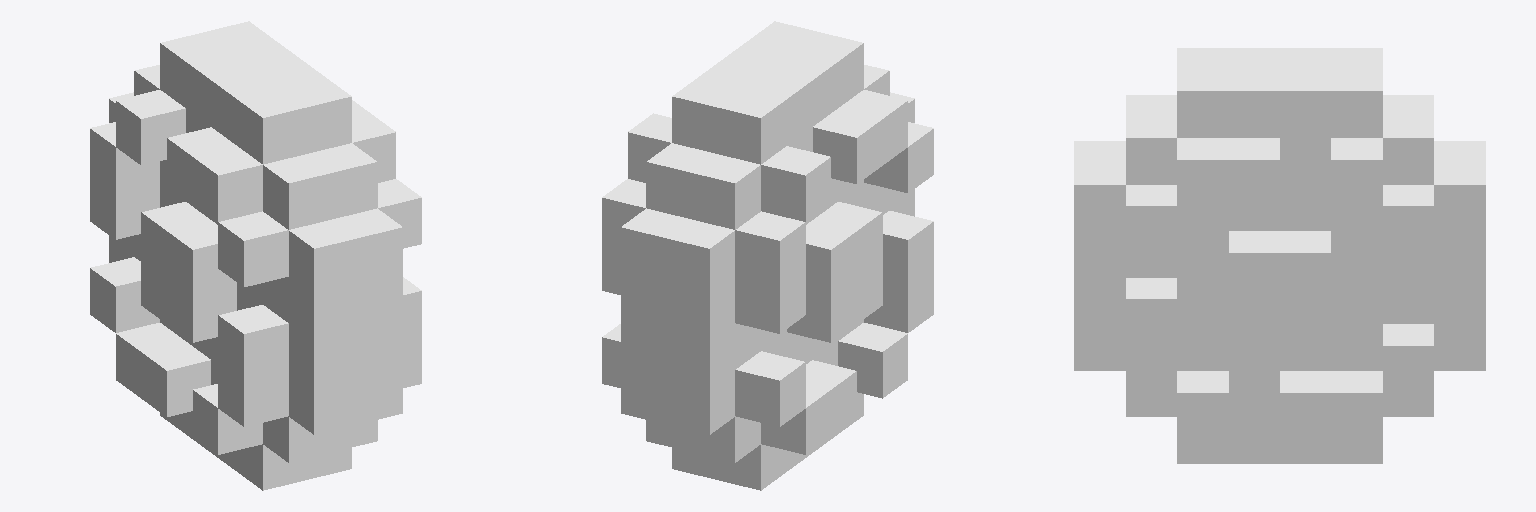
Rendered from wheel_5.obj.
The picture shows the model from 3 angles: view 1: azimuth 30°, elevation 25°; view 2: azimuth 150°, elevation 25°; view 3: azimuth 270°, elevation 25°; orthographic projection.
Parts seen in each view (by area): view 1: object 1; view 2: object 1; view 3: object 1.
Boxes of the visible parts, x1=… form: object 1: x1=90, y1=21, x2=421, y2=490; object 1: x1=602, y1=21, x2=933, y2=490; object 1: x1=1074, y1=48, x2=1485, y2=463.
Bounding box in the file's own units: 0.4 × 0.8 × 0.8.